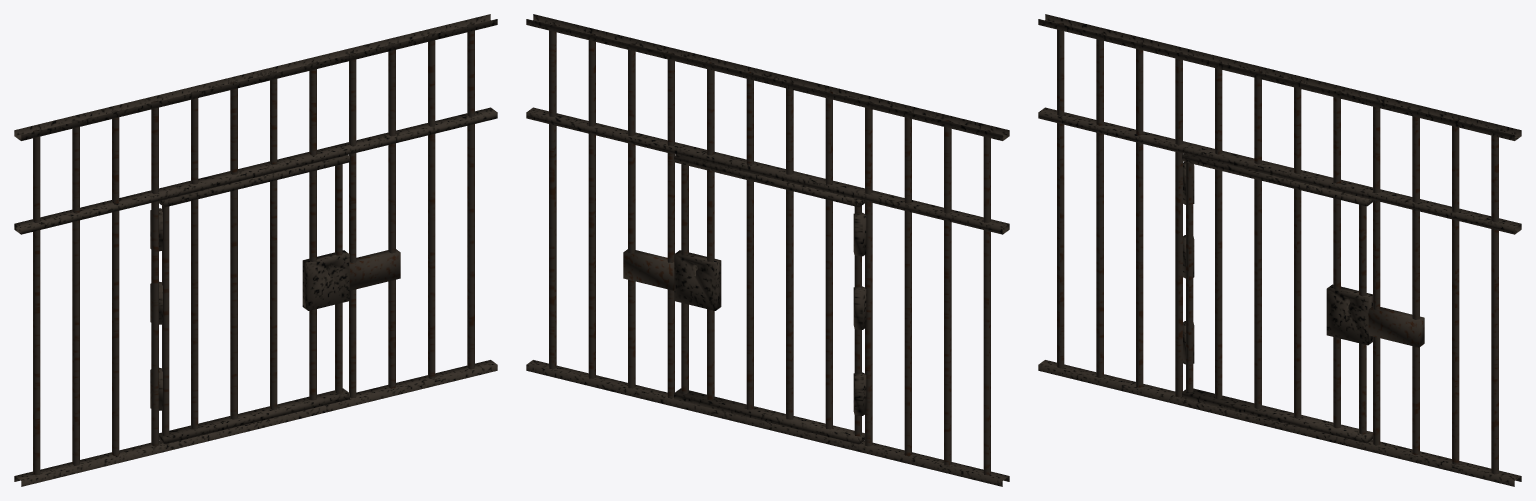
The model's file is Reshotka.fbx.
The picture shows the model from 3 angles, left to right: view 1: azimuth 30°, elevation 25°; view 2: azimuth 150°, elevation 25°; view 3: azimuth 330°, elevation 25°; orthographic projection.
Parts seen in each view (by area): view 1: Resh, Door; view 2: Resh, Door; view 3: Resh, Door.
Boxes of the visible parts, box(x1,y1,x2,y2) form: Resh: box(14, 14, 497, 486); Door: box(150, 155, 349, 444); Resh: box(526, 14, 1009, 486); Door: box(674, 155, 866, 444); Resh: box(1038, 14, 1521, 486); Door: box(1182, 154, 1372, 443).
Bounding box in the file's own units: 410 × 289 × 14.92.
